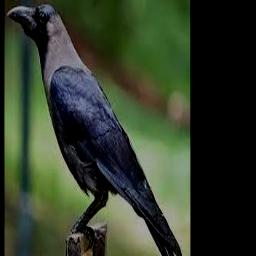Crow: (6, 5, 186, 256)
